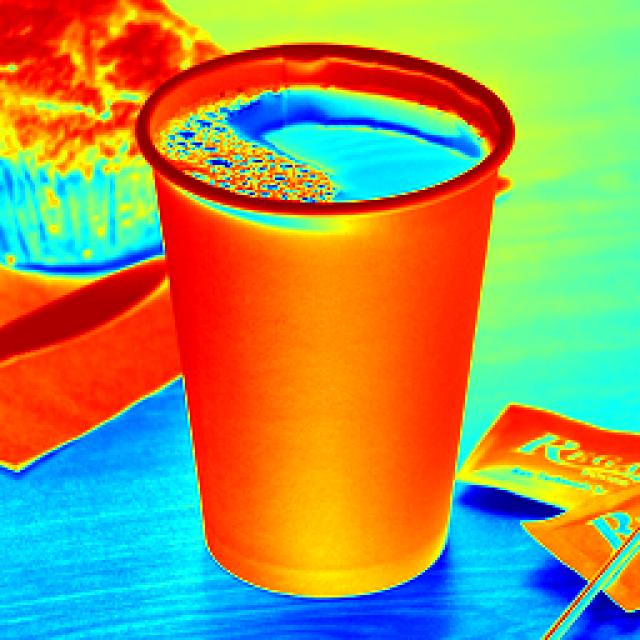Aluminium Food Cans: (138, 30, 147, 34)
Paper Cups: (133, 29, 501, 622)
